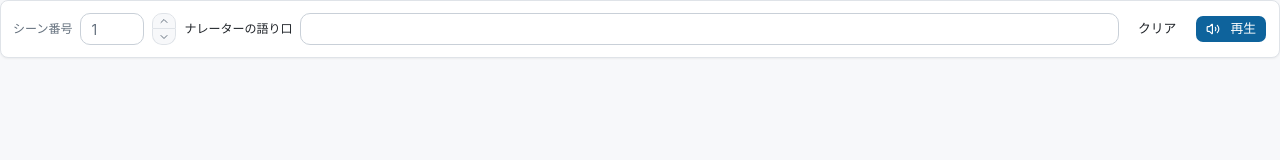
Test case: AudiobookPlayer › plays sentence and utterance pauses before the next scene heading
The width and height of the screenshot is (1280, 160).
What coordinates should you click on to do the following:
click the button with aria-label "再生開始"
I would click on:
 (1231, 29)
Its box is [1195,15,1267,43].
Wait 1112 ms
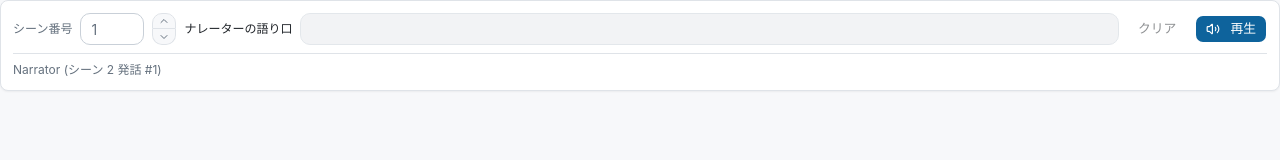
Expected: the element with test id "playback-position" shows "Narrator", [13,62,60,77]
